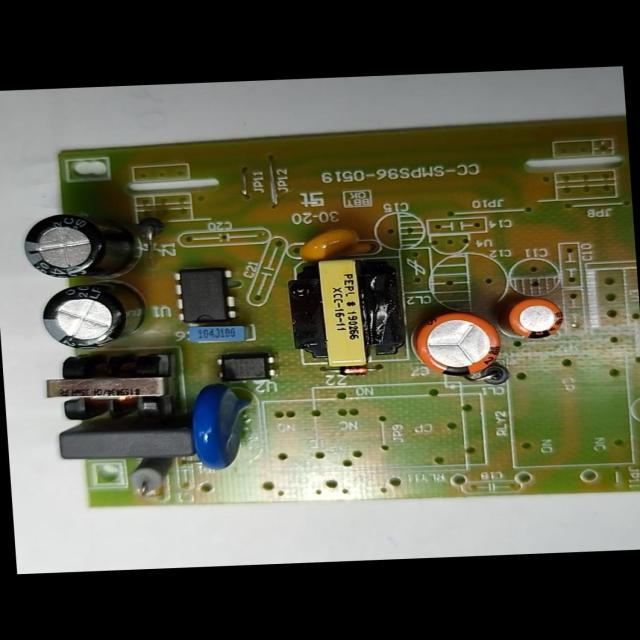Cap1: (412, 310, 505, 377)
Cap2: (503, 295, 565, 343)
Cap3: (38, 281, 150, 352)
Cap4: (19, 210, 146, 280)
MOSFET: (174, 268, 239, 326)
Mov: (184, 380, 266, 471)
Resistor: (128, 456, 179, 494)
Transformer: (285, 252, 410, 371), (38, 349, 182, 428)
